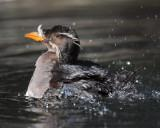008.Rhinoceros_Auklet: (22, 24, 135, 104)
